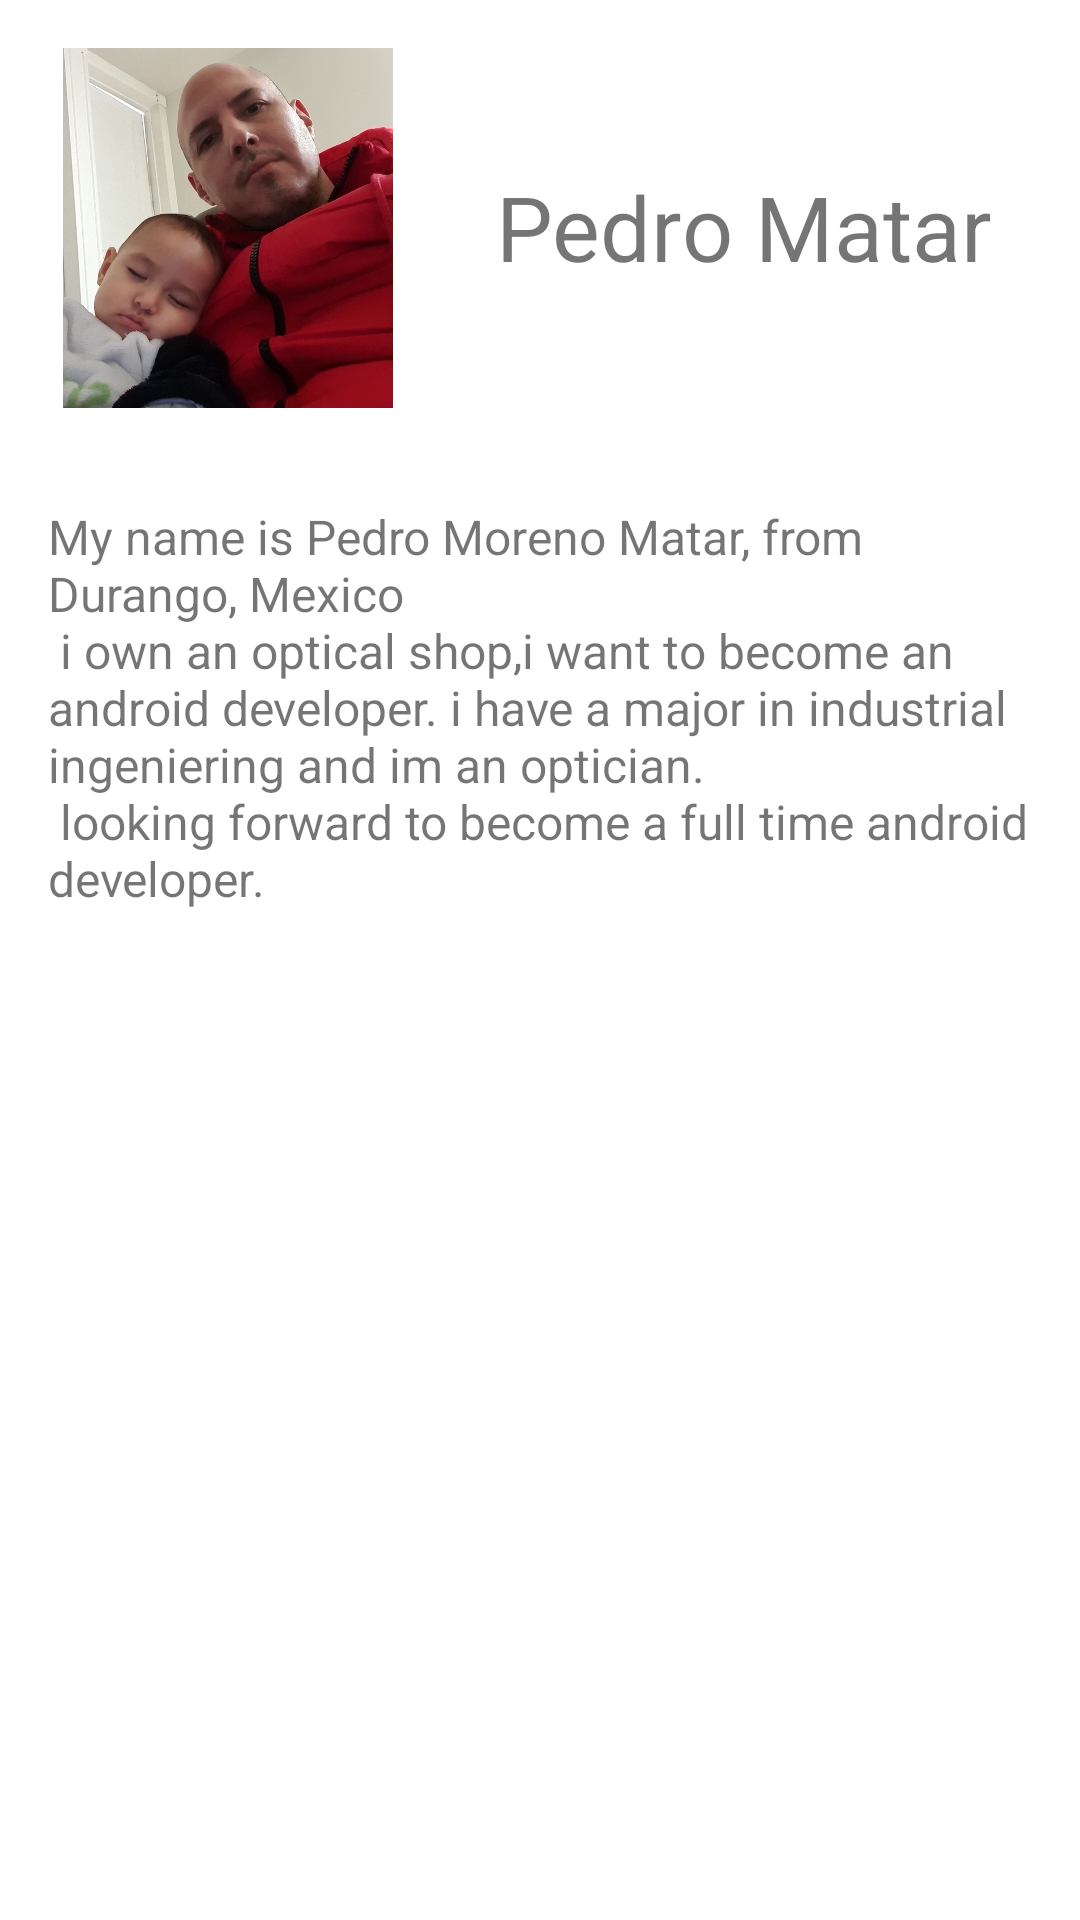

Icon click points for this 1080×1920 phone screenshot, format (x=x, y=y):
bio pic: (x=228, y=228)
